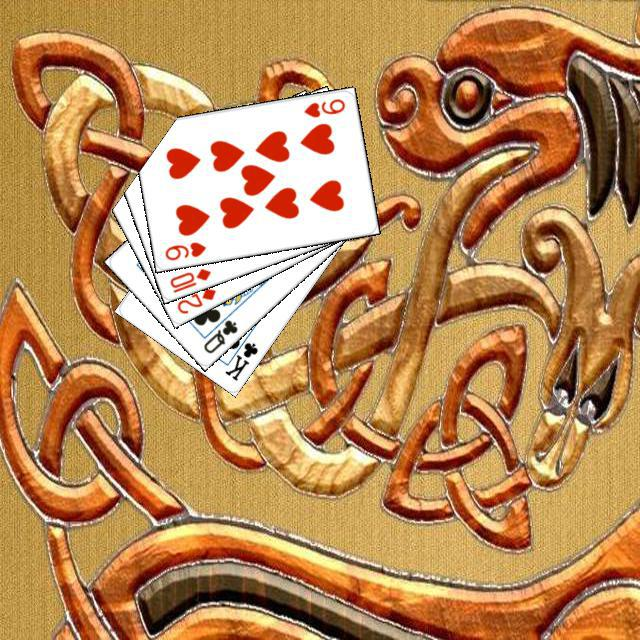10d: (165, 263, 213, 294)
2d: (172, 283, 218, 316)
9h: (160, 237, 208, 262), (299, 94, 347, 119)
Kc: (220, 329, 260, 382)
Qc: (197, 307, 239, 355)
